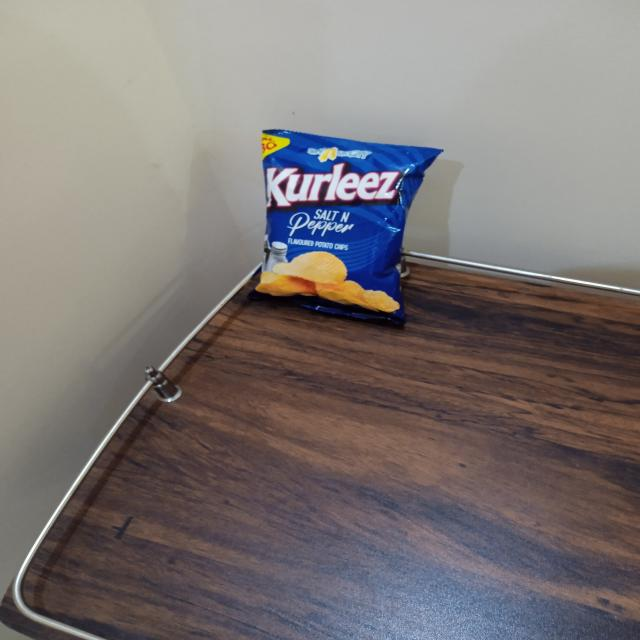Plastic: (262, 132, 420, 320)
